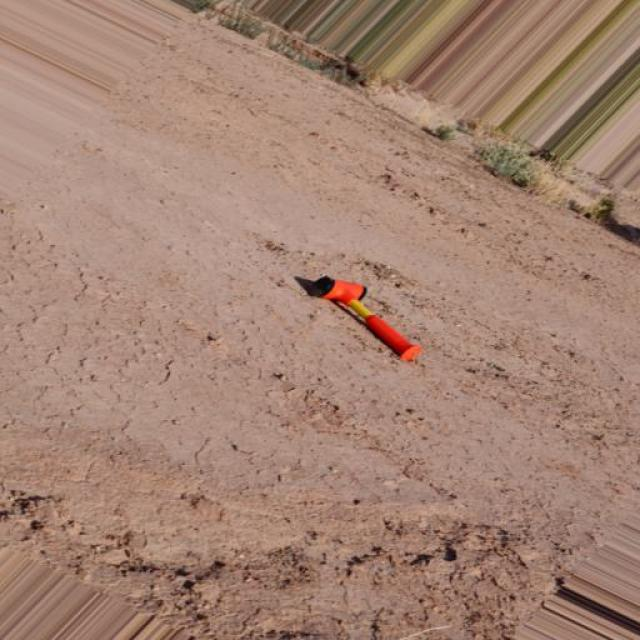mallet: (293, 272, 422, 362)
